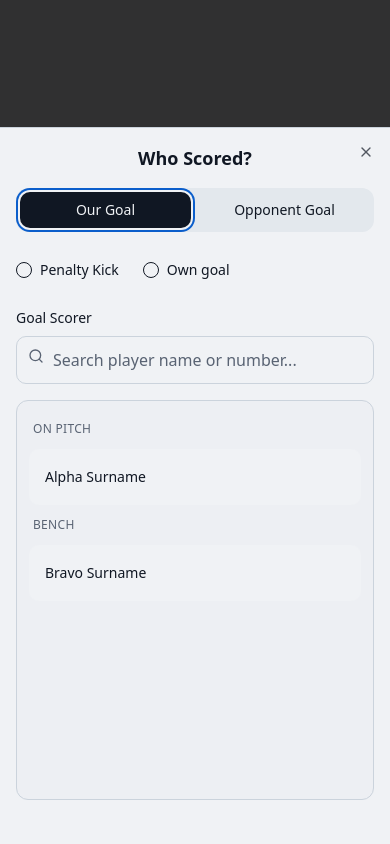
QuickGoalButton › a bench player is a reachable scorer, not just the pitch
What coordinates should you click on to do the following:
click the button "Bravo Surname"
I would click on:
 (64, 572)
Its box is 29,545 -> 361,601.
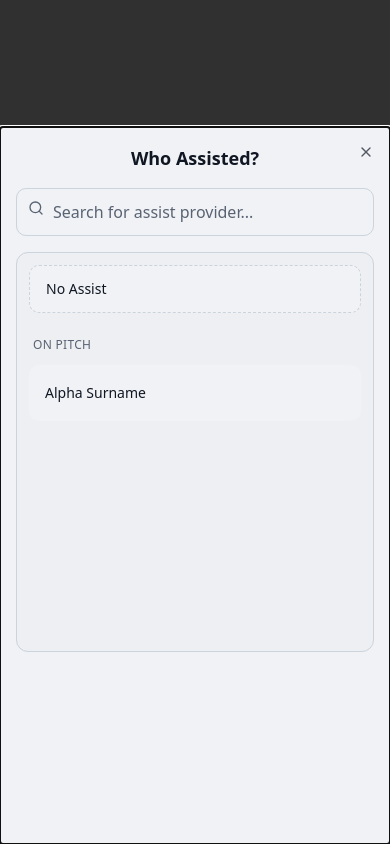
Result: the heading "Who Assisted?" is shown at 131,146 -> 259,170
